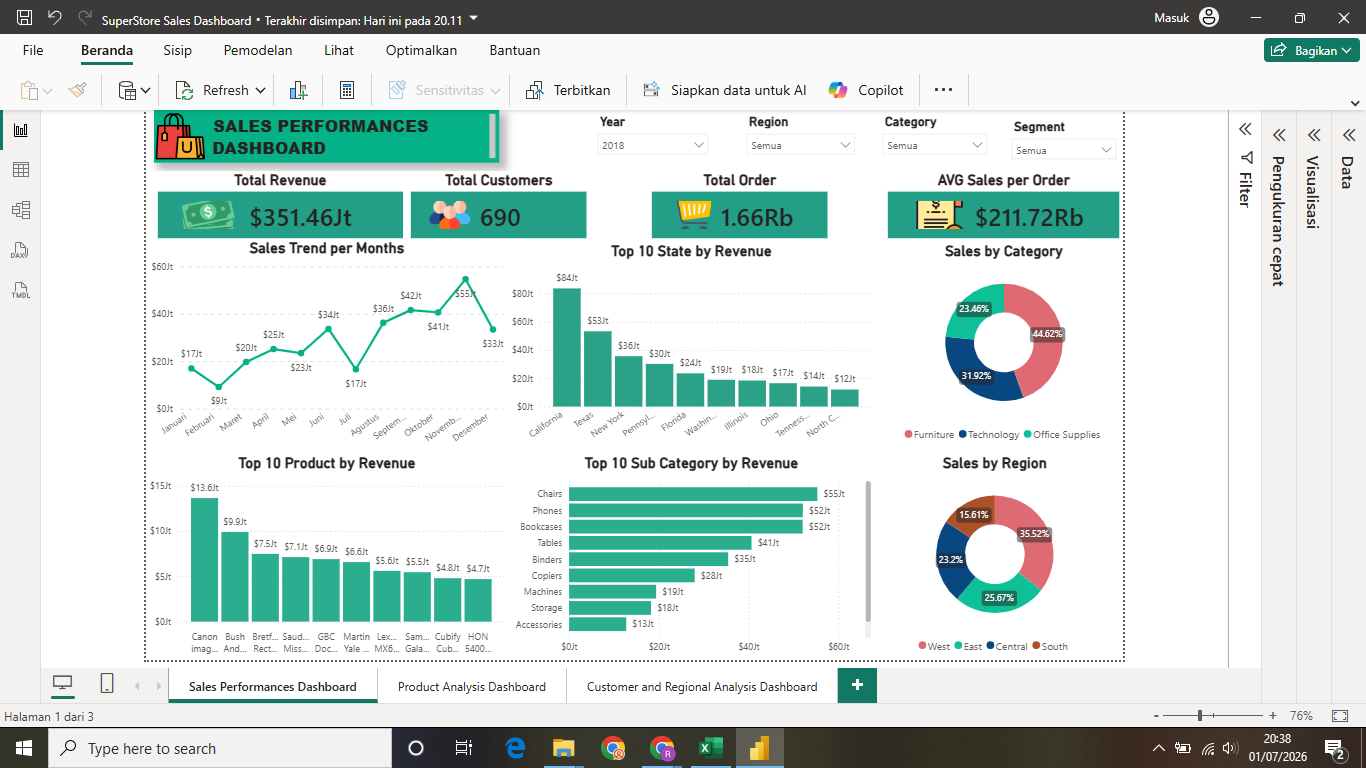

What the dashboard file says about the page in this screenshot:
{"tool":"powerbi","page":{"name":"Sales Performances Dashboard","canvas":[1280,720],"ordinal":0},"visuals":[{"type":"textbox","box":[10.1,0,451.9,68.9],"z":0},{"type":"image","box":[10.1,0,68.9,68.9],"z":1000},{"type":"cardVisual","title":"Total Revenue","fields":{"Data":["train2.Total Sales"]},"box":[10.6,79.2,331,93.3],"z":2000},{"type":"cardVisual","title":"Total Customers","fields":{"Data":["train2.Total Customers"]},"box":[341.3,79.2,240.5,93.6],"z":3000},{"type":"cardVisual","title":"Total Order","fields":{"Data":["train2.Total Order"]},"box":[656.6,79.2,240.5,93.6],"z":4000},{"type":"cardVisual","title":"AVG Sales per Order","fields":{"Data":["train2.AVG Sales Per Order"]},"box":[966.2,79.2,313.9,93.6],"z":5000},{"type":"lineChart","title":"Sales Trend per Months","fields":{"Y":["Sum(train2.Sales)"],"Category":["train2.Order Date.Variasi.Hierarki Tanggal.Bulan"]},"box":[0,169,473.6,278.2],"z":6000},{"type":"barChart","title":"Top 10 Sub Category by Revenue","fields":{"Category":["train2.Sub-Category"],"Y":["Sum(train2.Sales)"]},"box":[473.7,450.2,480.4,270.4],"z":7000},{"type":"columnChart","title":"Top 10 State by Revenue","fields":{"Category":["train2.State"],"Y":["Sum(train2.Sales)"]},"box":[473.7,173,480.4,270.4],"z":8000},{"type":"columnChart","title":"Top 10 Product by Revenue","fields":{"Category":["train2.Product Name"],"Y":["Sum(train2.Sales)"]},"box":[0,450.2,473.7,270.4],"z":9000},{"type":"slicer","fields":{"Values":["train2.Order Date.Variasi.Hierarki Tanggal.Tahun"]},"box":[580.9,0,165.5,72.6],"z":10000},{"type":"slicer","fields":{"Values":["train2.Segment"]},"box":[1123,6.8,157,72.6],"z":11000},{"type":"slicer","fields":{"Values":["train2.Region"]},"box":[776.8,0,162.1,72.6],"z":12000},{"type":"slicer","fields":{"Values":["train2.Category"]},"box":[954.1,0,157,72.6],"z":13000},{"type":"donutChart","title":"Sales by Category","fields":{"Category":["train2.Category"],"Y":["Sum(train2.Sales)"]},"box":[966,173,314,270],"z":14000},{"type":"pieChart","title":"Sales by Region","fields":{"Y":["Sum(train2.Sales)"],"Category":["train2.Region"]},"box":[954.5,450.3,313.7,269.8],"z":15000}]}

Visuals, with their boxes on the page's 1280x720 design canvas (x1, y1, x2, y2). These are canvas units, not pixel positions in the 1366x768 screenshot, which may show the page scaled, cropped or inside an application window:
textbox: box=[10, 0, 462, 69]
image: box=[10, 0, 79, 69]
"Total Revenue" cardVisual: box=[11, 79, 342, 172]
"Total Customers" cardVisual: box=[341, 79, 582, 173]
"Total Order" cardVisual: box=[657, 79, 897, 173]
"AVG Sales per Order" cardVisual: box=[966, 79, 1280, 173]
"Sales Trend per Months" lineChart: box=[0, 169, 474, 447]
"Top 10 Sub Category by Revenue" barChart: box=[474, 450, 954, 721]
"Top 10 State by Revenue" columnChart: box=[474, 173, 954, 443]
"Top 10 Product by Revenue" columnChart: box=[0, 450, 474, 721]
slicer - train2.Order Date.Variasi.Hierarki Tanggal.Tahun: box=[581, 0, 746, 73]
slicer - train2.Segment: box=[1123, 7, 1280, 79]
slicer - train2.Region: box=[777, 0, 939, 73]
slicer - train2.Category: box=[954, 0, 1111, 73]
"Sales by Category" donutChart: box=[966, 173, 1280, 443]
"Sales by Region" pieChart: box=[954, 450, 1268, 720]
